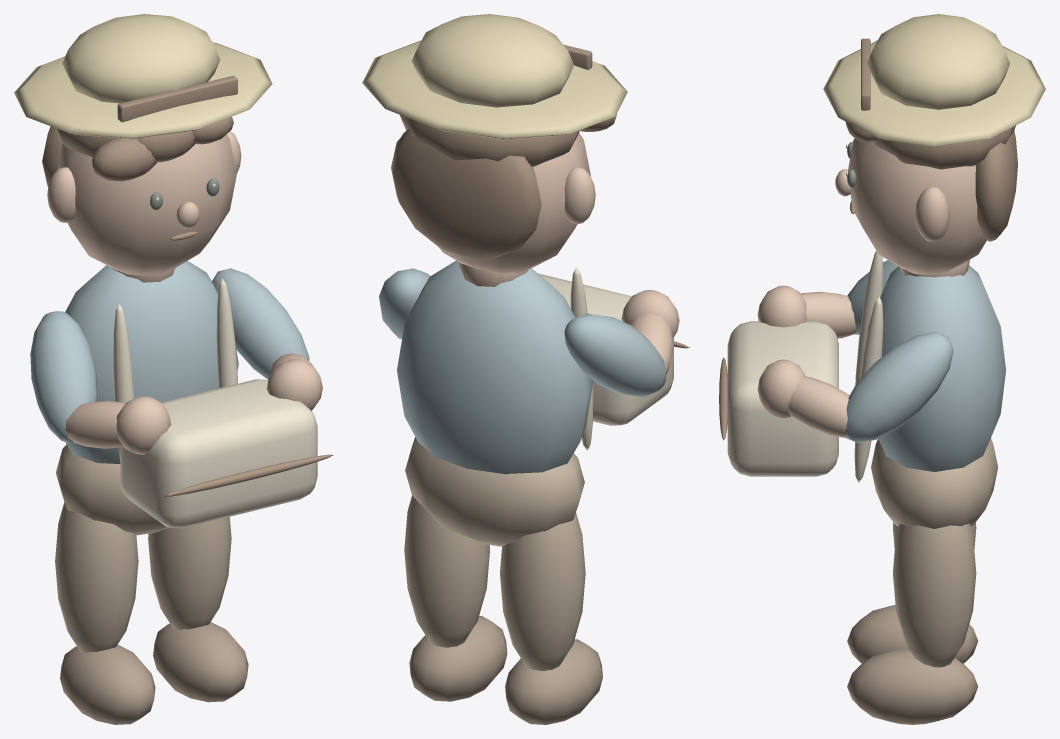
The model's file is daddy-carry.glb.
3 views of the same model, side by side, from view 1: azimuth 30°, elevation 25°; view 2: azimuth 150°, elevation 25°; view 3: azimuth 270°, elevation 25° (orthographic). The views are drawn at different scales.
Parts seen in each view (by area): view 1: Supply parcel.003, Padded shirt.010, Head.010, Straw crown.004, Soft straw brim.004, Trouser leg.020, Trouser leg.021, Shirt sleeve.020, Rounded boot.021, Rounded boot.020, Shirt sleeve.021, Soft trouser seat.010 (+13 smaller); view 2: Padded shirt.010, Hair back.010, Straw crown.004, Soft straw brim.004, Soft trouser seat.010, Trouser leg.020, Trouser leg.021, Shirt sleeve.020, Rounded boot.020, Rounded boot.021, Head.010, Hair crown.010 (+7 smaller); view 3: Padded shirt.010, Supply parcel.003, Head.010, Straw crown.004, Soft straw brim.004, Trouser leg.021, Shirt sleeve.021, Rounded boot.021, Soft trouser seat.010, Hair back.010, Rounded boot.020, Forearm.021 (+10 smaller).
Part boxes in pixels (x1,y1,x2,y2): Supply parcel.003: (120, 379, 317, 528); Padded shirt.010: (65, 261, 238, 463); Head.010: (57, 134, 236, 275); Straw crown.004: (62, 14, 220, 103); Soft straw brim.004: (14, 42, 272, 138); Trouser leg.020: (55, 502, 138, 652); Trouser leg.021: (148, 517, 231, 629); Shirt sleeve.020: (30, 311, 97, 442); Rounded boot.021: (153, 622, 248, 702); Rounded boot.020: (60, 645, 155, 724); Shirt sleeve.021: (212, 268, 309, 379); Soft trouser seat.010: (56, 444, 169, 535); Padded shirt.010: (397, 260, 592, 474); Hair back.010: (391, 128, 541, 259); Straw crown.004: (412, 14, 573, 107); Soft straw brim.004: (362, 40, 627, 139); Soft trouser seat.010: (405, 437, 584, 546); Trouser leg.020: (500, 512, 585, 670); Trouser leg.021: (404, 495, 489, 647); Shirt sleeve.020: (564, 313, 665, 396); Rounded boot.020: (505, 639, 602, 724); Rounded boot.021: (409, 616, 507, 701); Head.010: (439, 133, 590, 273); Hair crown.010: (400, 115, 579, 166); Padded shirt.010: (867, 265, 1005, 471); Supply parcel.003: (727, 321, 838, 476); Head.010: (848, 138, 987, 275); Straw crown.004: (867, 14, 1009, 109); Soft straw brim.004: (823, 40, 1045, 146); Trouser leg.021: (893, 523, 976, 667); Shirt sleeve.021: (844, 332, 953, 442); Rounded boot.021: (847, 648, 978, 724); Soft trouser seat.010: (871, 438, 997, 528); Hair back.010: (975, 131, 1017, 241); Rounded boot.020: (847, 605, 978, 663); Forearm.021: (788, 376, 849, 437).
Size of the model in its own units: 0.7808 by 1.93 by 0.8549.
